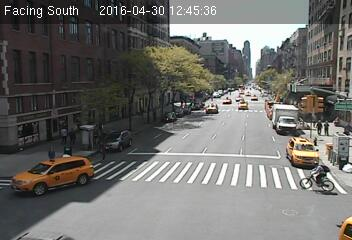neg: (304, 160, 331, 195), (120, 185, 142, 214), (274, 45, 293, 71), (61, 61, 78, 84), (92, 95, 109, 117), (243, 156, 260, 178), (315, 78, 331, 100), (169, 105, 185, 127), (201, 115, 217, 137), (200, 205, 216, 227), (275, 202, 291, 223), (272, 101, 287, 121), (82, 204, 97, 223), (240, 85, 254, 104), (122, 58, 136, 76), (148, 145, 162, 163), (314, 40, 327, 58), (192, 166, 205, 183), (220, 49, 232, 66), (172, 56, 184, 72), (145, 98, 155, 112), (116, 115, 126, 128)
pos: (96, 142, 112, 163), (54, 124, 69, 144), (67, 128, 81, 147), (45, 145, 59, 163), (312, 118, 325, 135), (323, 120, 335, 135)
